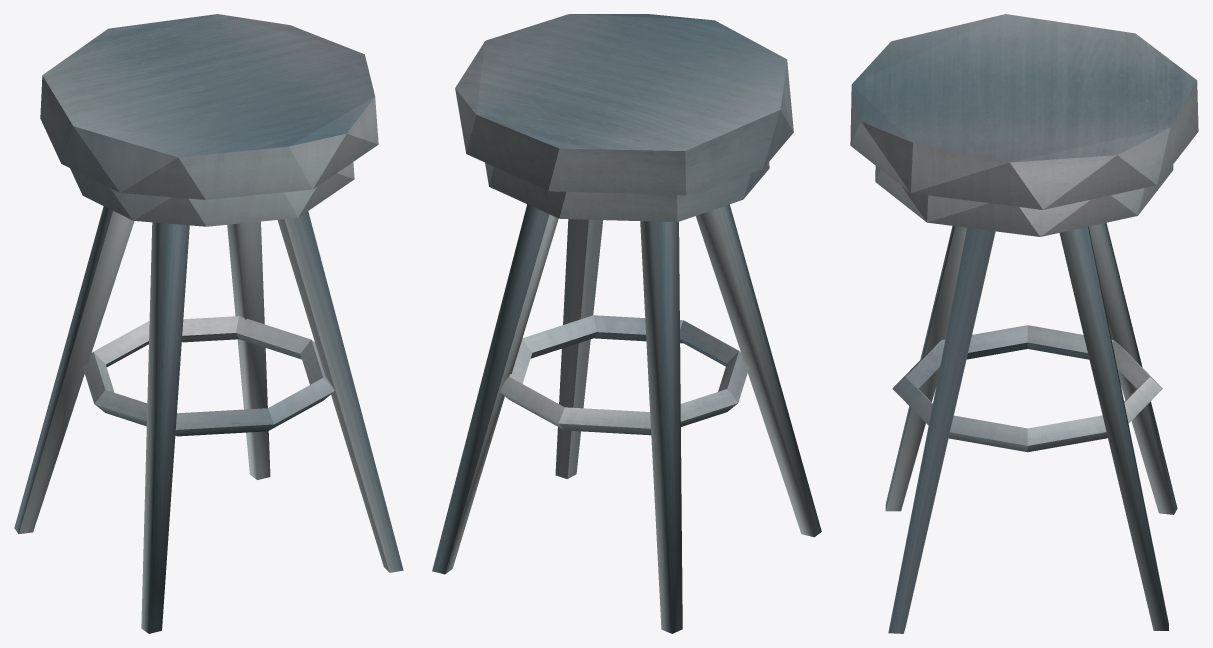
File: SMALL_CHAIR.fbx
The picture shows the model from 3 angles, left to right: view 1: azimuth 30°, elevation 25°; view 2: azimuth 150°, elevation 25°; view 3: azimuth 270°, elevation 25°; orthographic projection. The views are drawn at different scales.
Visible parts, largest first — view 1: SMALL_CHAIR; view 2: SMALL_CHAIR; view 3: SMALL_CHAIR.
Part boxes in pixels (x1,y1,x2,y2): SMALL_CHAIR: [14, 14, 403, 633]; SMALL_CHAIR: [432, 14, 821, 633]; SMALL_CHAIR: [850, 14, 1198, 633].
Bounding box in the file's own units: 39.05 × 59.67 × 39.04.
